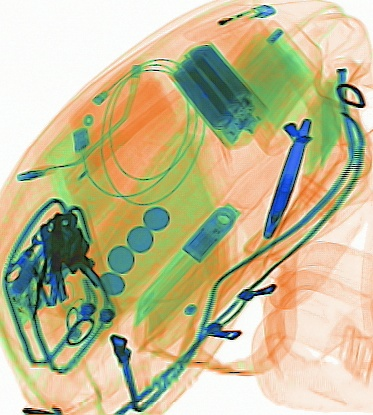knife: (132, 204, 238, 328)
lighter: (181, 2, 278, 47)
powerbank: (166, 39, 272, 153)
